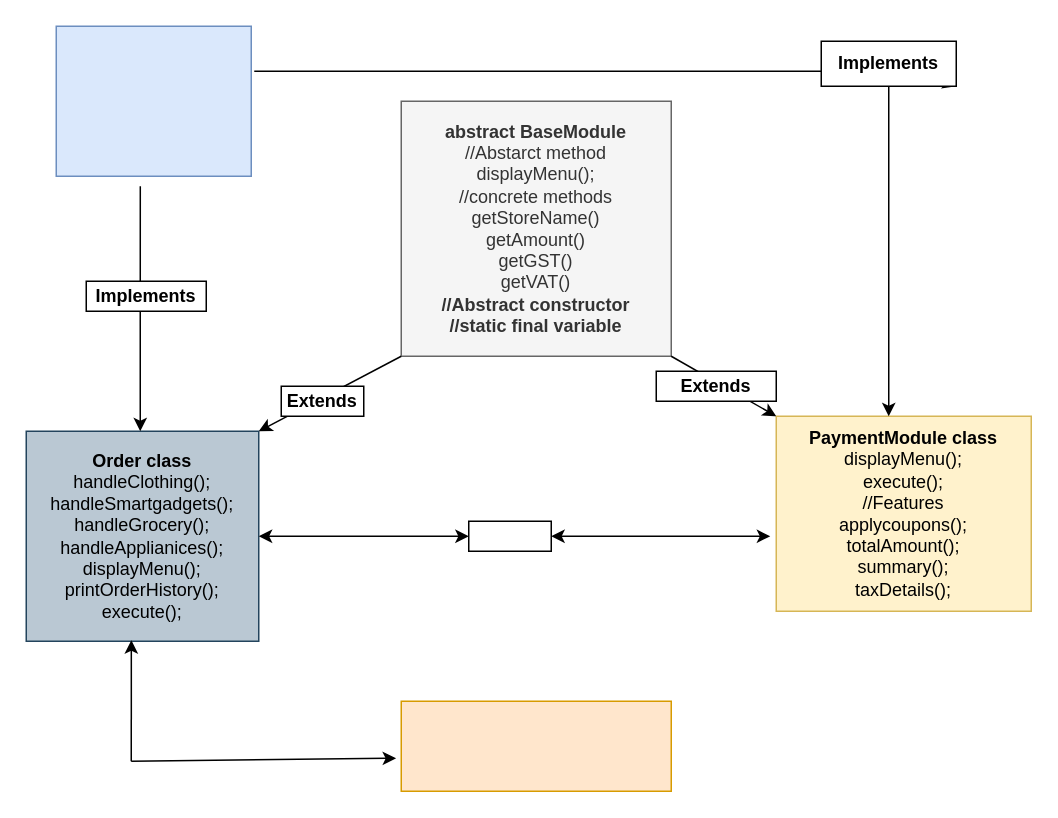
The diagram is 1058 pixels wide and 818 high, and some of its shapes have lost their labels. The shapes that lost their labels are listed below. From the top down, each one's box as (x1, y1, x2, y2) in pixels, then its label:
(55, 25, 251, 176): interface Module void execute();
(467, 520, 551, 551): Has-a
(400, 700, 671, 791): View Order Details //shows all product which have ordered
